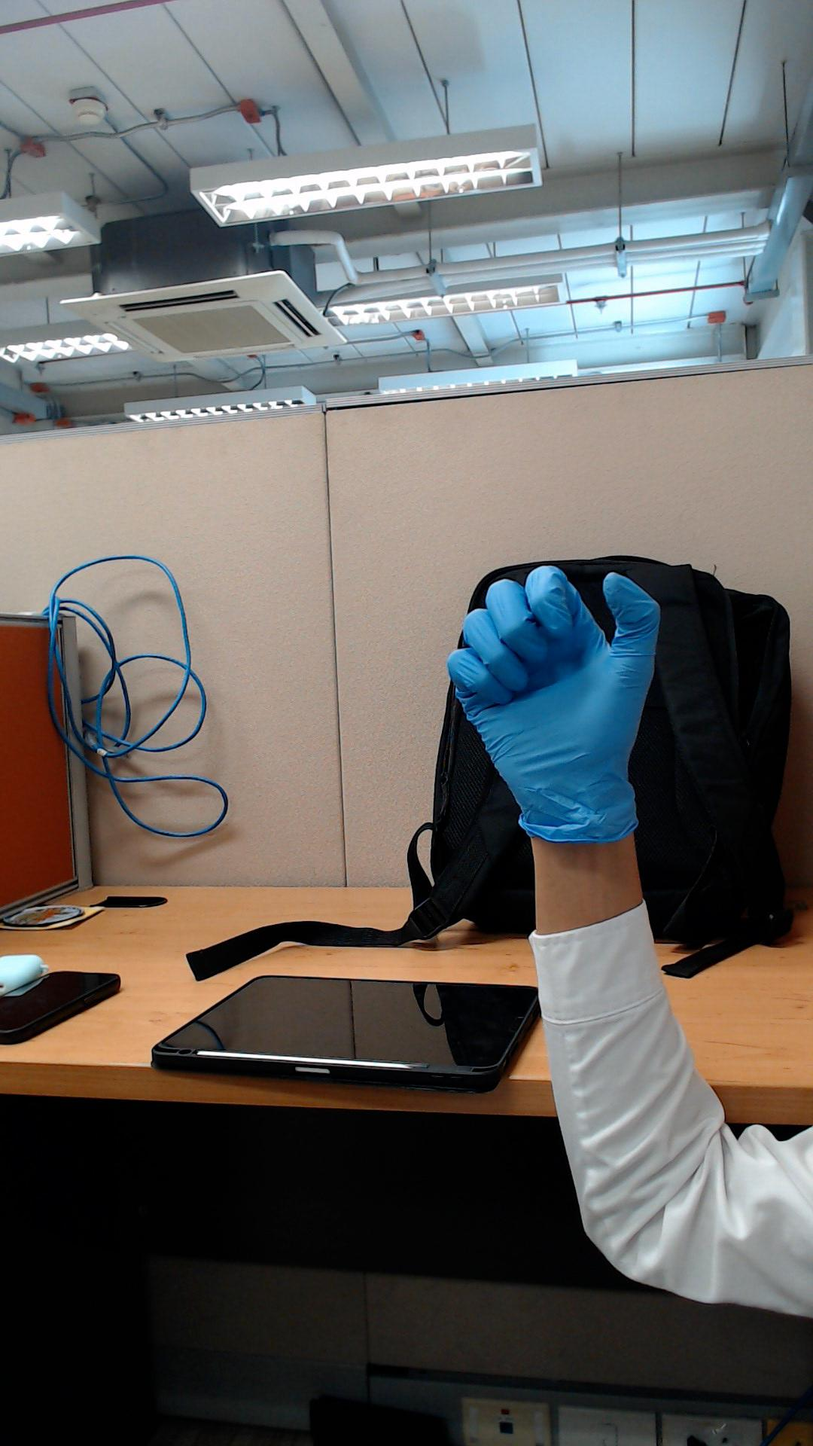gloves: (443, 538, 671, 774)
